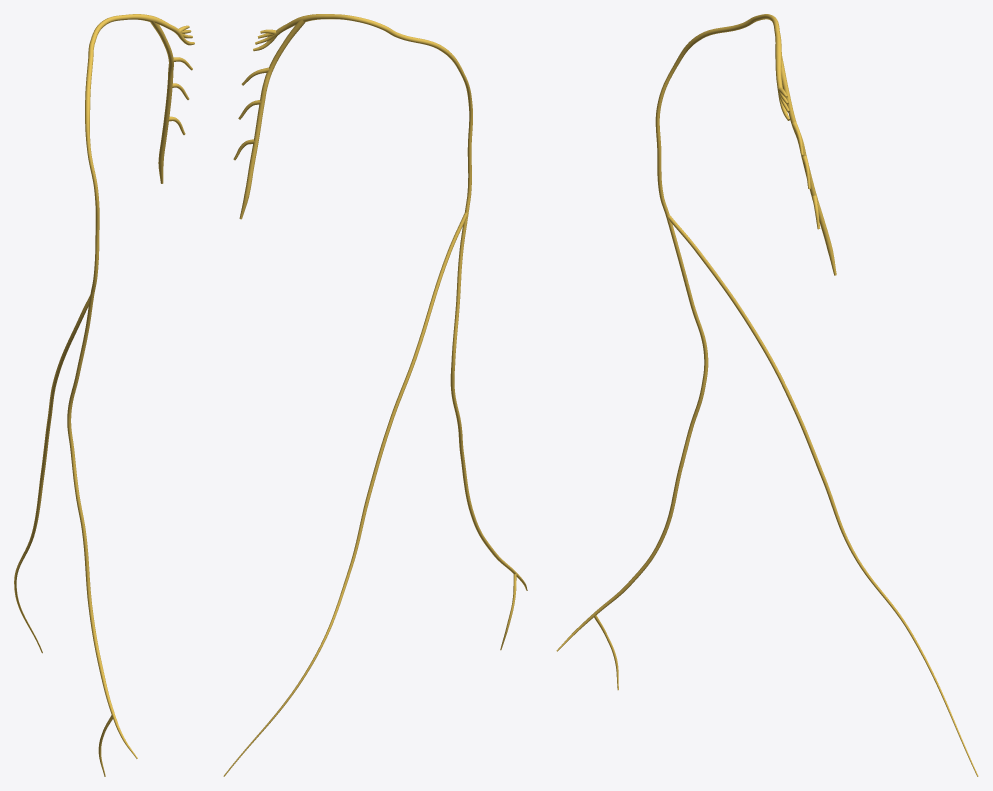
Rendered from Accessory_nerve_right.glb.
3 renders of one model, left to right at view 1: azimuth 30°, elevation 25°; view 2: azimuth 150°, elevation 25°; view 3: azimuth 270°, elevation 25°, orthographic. The views are drawn at different scales.
Visible parts, largest first — view 1: Accessory_nerve_(XI).r_BezierCurve.553; view 2: Accessory_nerve_(XI).r_BezierCurve.553; view 3: Accessory_nerve_(XI).r_BezierCurve.553.
Boxes of the visible parts, <box> form: Accessory_nerve_(XI).r_BezierCurve.553: <box>14,14,194,776</box>; Accessory_nerve_(XI).r_BezierCurve.553: <box>223,14,527,776</box>; Accessory_nerve_(XI).r_BezierCurve.553: <box>556,14,978,776</box>.
Bounding box in the file's own units: 0.0327 × 0.1204 × 0.062.
